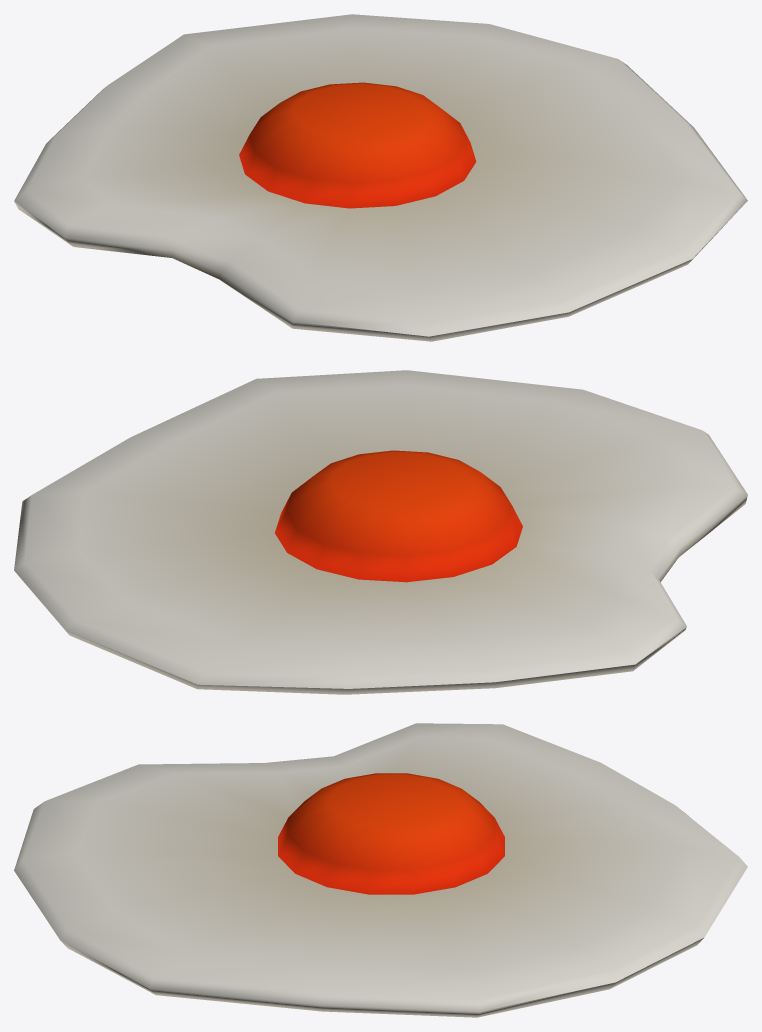
File: FriedEgg_Medium3.fbx
3 views of the same model, one above another, from view 1: azimuth 30°, elevation 25°; view 2: azimuth 150°, elevation 25°; view 3: azimuth 270°, elevation 25° (orthographic). The views are drawn at different scales.
Visible parts, largest first — view 1: FriedEgg_Medium3; view 2: FriedEgg_Medium3; view 3: FriedEgg_Medium3.
Part boxes in pixels (x1,y1,x2,y2): FriedEgg_Medium3: [14, 14, 747, 341]; FriedEgg_Medium3: [14, 370, 747, 694]; FriedEgg_Medium3: [14, 723, 747, 1017].
Size of the model in its own units: 44.05 by 5.36 by 48.03.
